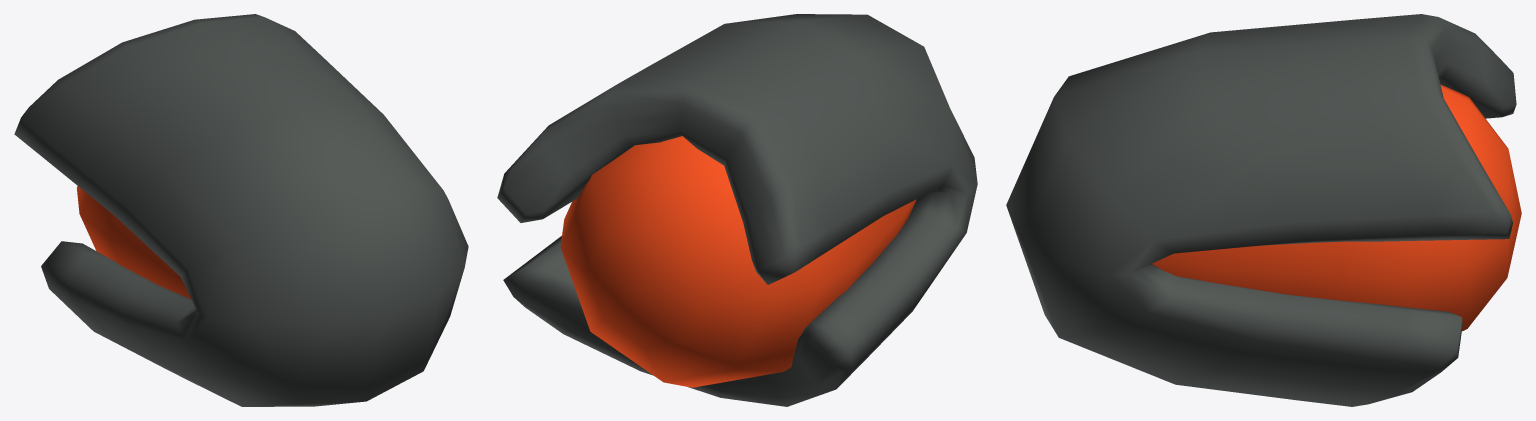
The model's file is xsens_RightFifthDP.dae.
The picture shows the model from 3 angles, left to right: view 1: azimuth 30°, elevation 25°; view 2: azimuth 150°, elevation 25°; view 3: azimuth 270°, elevation 25°; orthographic projection. The views are drawn at different scales.
Visible parts, largest first — view 1: RightFifthDP; view 2: RightFifthDP; view 3: RightFifthDP.
Boxes of the visible parts, x1,y1,x2,y2 form: RightFifthDP: (14,14,468,406); RightFifthDP: (497,14,977,406); RightFifthDP: (1006,14,1521,406).
Size of the model in its own units: 0.0158 by 0.0207 by 0.0153.
